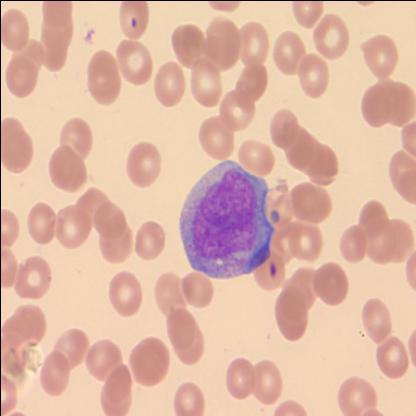Promyelocyte: (180, 158, 276, 276)
